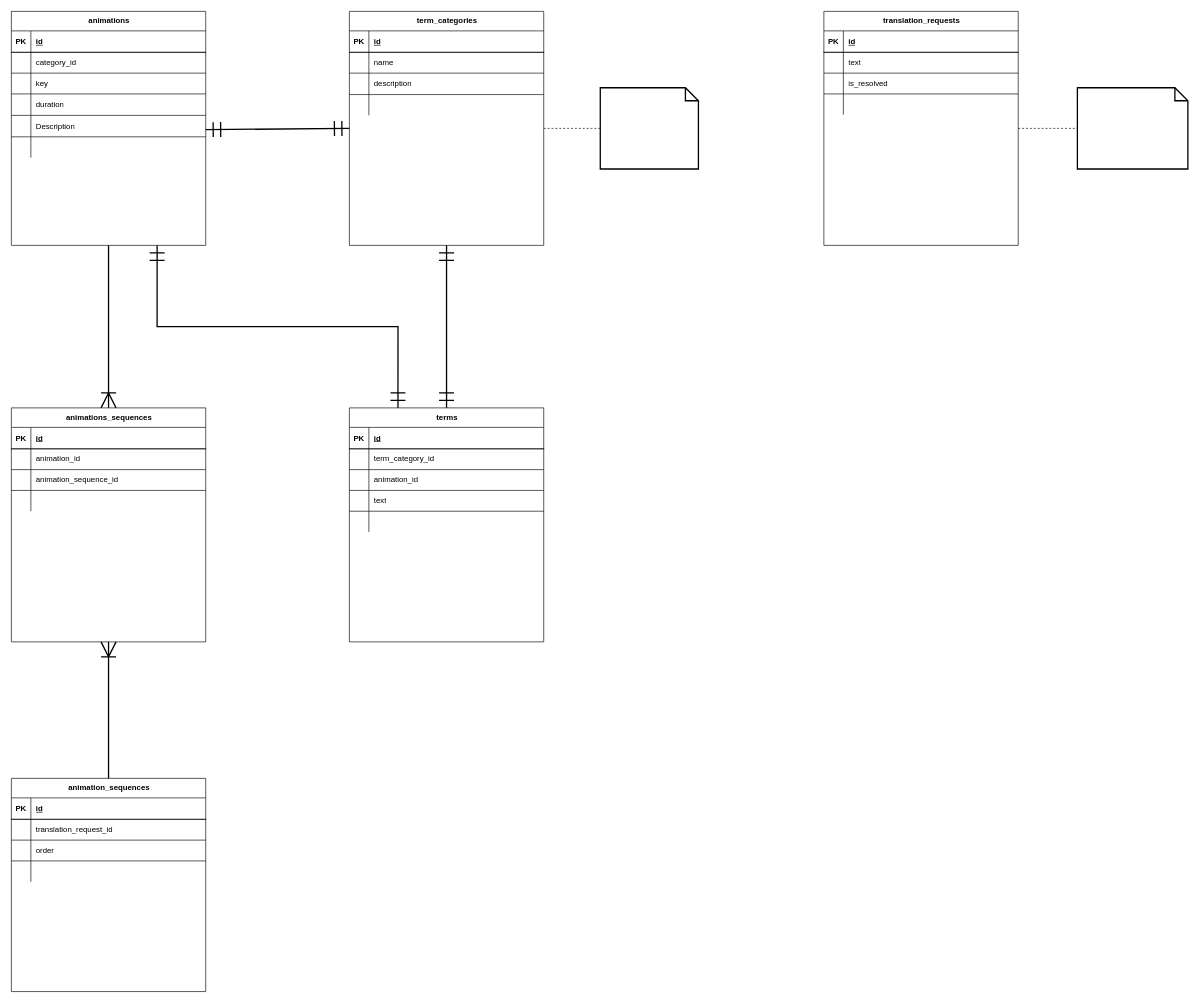
Image size: 1200x1003. Some labels were removed from this diagram. Each missing label, with the centre of its shape:
"- Verbo - Saludo - Alfabeto - Sustantivo - Número - Etc" goes at (x=649, y=128).
"Si todas las palabras se encontraron entonces is_resolved = true" goes at (x=1132, y=128).
